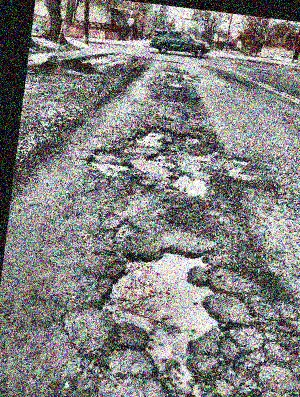pothole: (85, 234, 236, 397), (85, 145, 135, 179), (130, 121, 175, 150), (168, 171, 211, 201), (141, 145, 176, 167), (231, 154, 251, 167)
